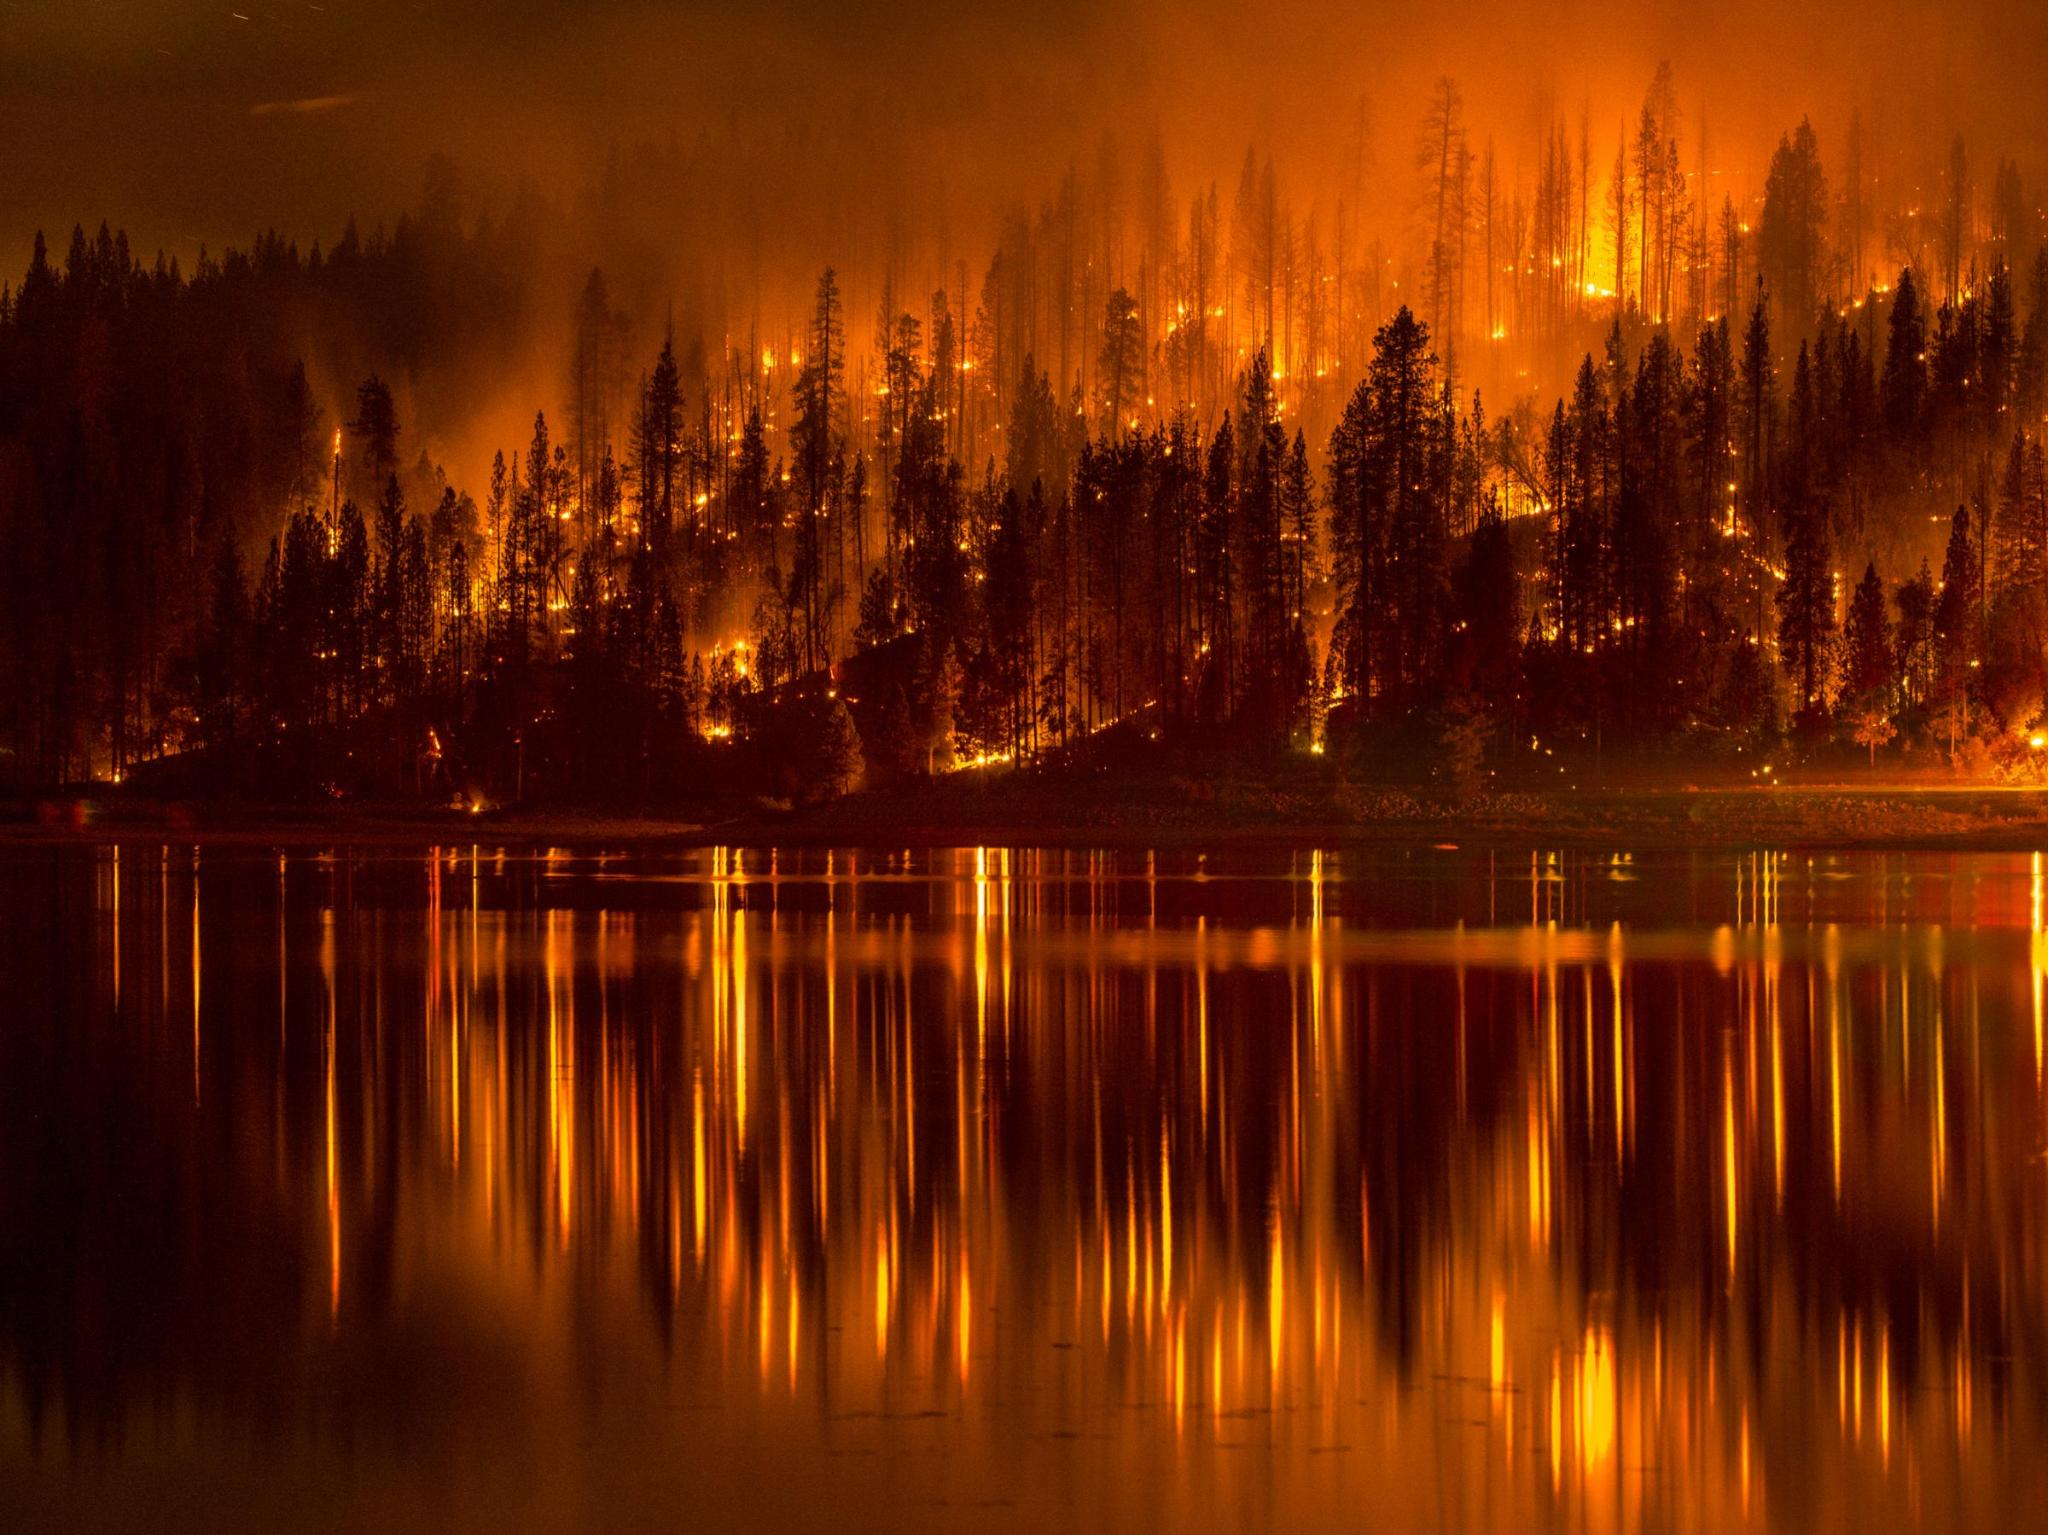fire: (145, 114, 2048, 811)
